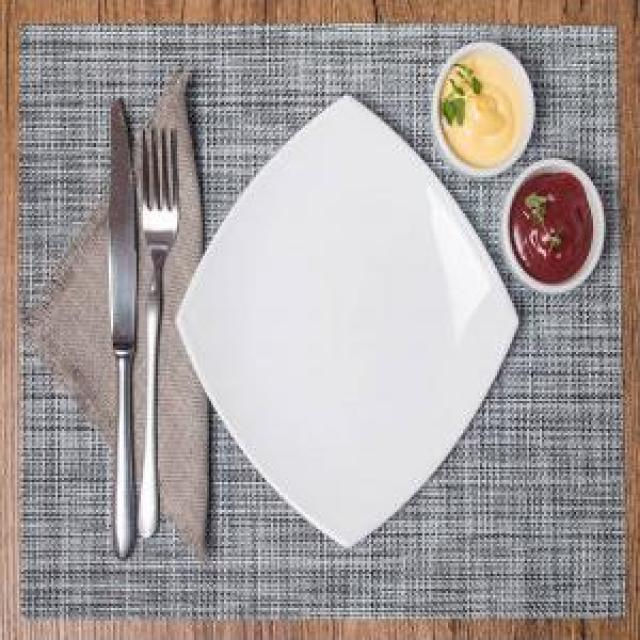knife: (107, 98, 145, 558)
